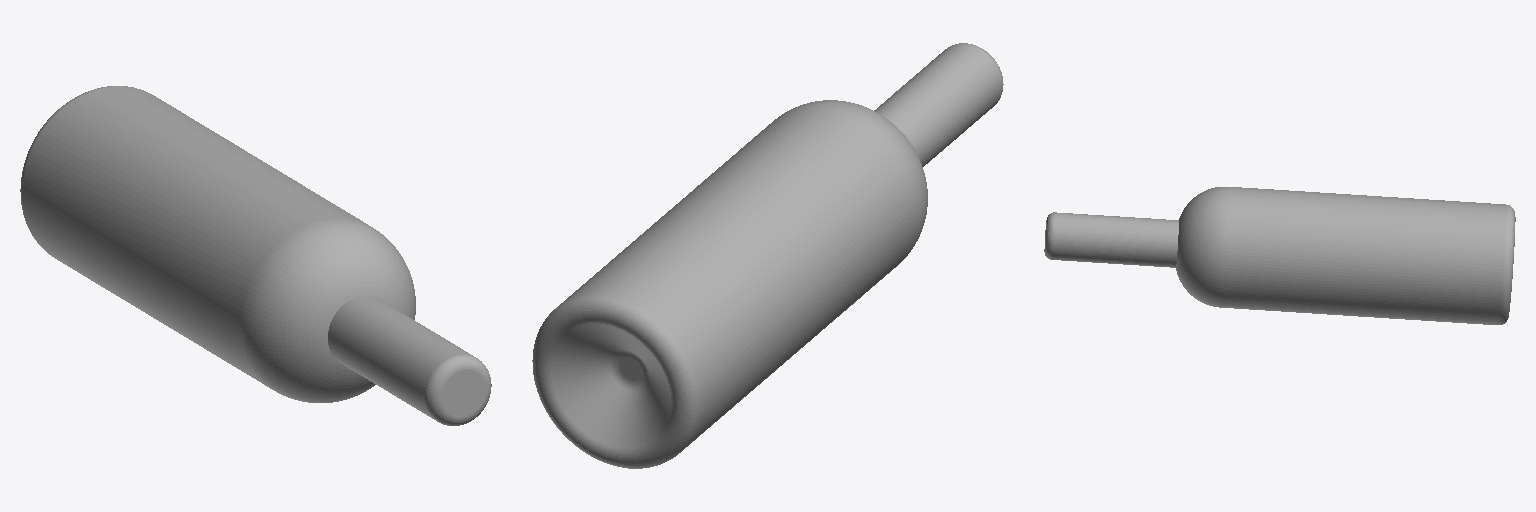
URDF robot description (bottle_skeleton):
<?xml version="1.0"?>
<robot name="bottle_skeleton">
    <link name="world" />
    <link name="bottle_free">
        <inertial>
            <mass value="1.0" />
            <origin xyz="0 0 0" rpy="0 0 0" />
            <inertia ixx="1.0" ixy="0" ixz="0" iyy="1.0" iyz="0" izz="1.0" />
        </inertial>
        <visual>
            <origin xyz="0 0 0" rpy="0 0 0" />
            <!-- <geometry>
                <box size="0.05 0.2 0.05" />
            </geometry> -->
            <geometry>
                <mesh filename="meshes/ur5/visual/wine_bottle.stl" scale="0.001 0.001 0.001"/>
            </geometry>     

            <material name="LightGrey">
                <color rgba="0.7 0.7 0.7 1.0"/>
            </material>   
        </visual>
        <collision group="default">
            <origin xyz="0 0 0" rpy="0 0 0" />
            <!-- <geometry>
                <box size="0.05 0.2 0.05" />
            </geometry> -->
            <geometry>
                <mesh filename="meshes/ur5/visual/wine_bottle.stl" scale="0.001 0.001 0.001"/>
            </geometry>          
        </collision>
    </link>
    <joint name="bot" type="floating">
        <origin xyz="0.4 0.3 0.4" rpy="1.5 0 0" />
        <parent link="world" />
        <child link="bottle_free" />
    </joint>
</robot>

--- What the picture shows (computed from the rendered views, not written in the file) ---
The picture shows the robot from 3 angles, left to right: view 1: azimuth 30°, elevation 25°; view 2: azimuth 150°, elevation 25°; view 3: azimuth 270°, elevation 25°; orthographic projection.
Model bottle_skeleton with 2 links and 1 joints (1 floating), rooted at world, posed every joint at zero.
Visible links, largest first — view 1: bottle_free; view 2: bottle_free; view 3: bottle_free.
Link boxes in pixels (x1,y1,x2,y2): bottle_free: [20, 86, 491, 425]; bottle_free: [532, 43, 1003, 468]; bottle_free: [1044, 187, 1515, 324].
Bounding box of the posed robot: 0.0756 × 0.2937 × 0.0878 m (x, y, z).
1 mesh visuals loaded from 1 distinct referenced files (1 binary STL).